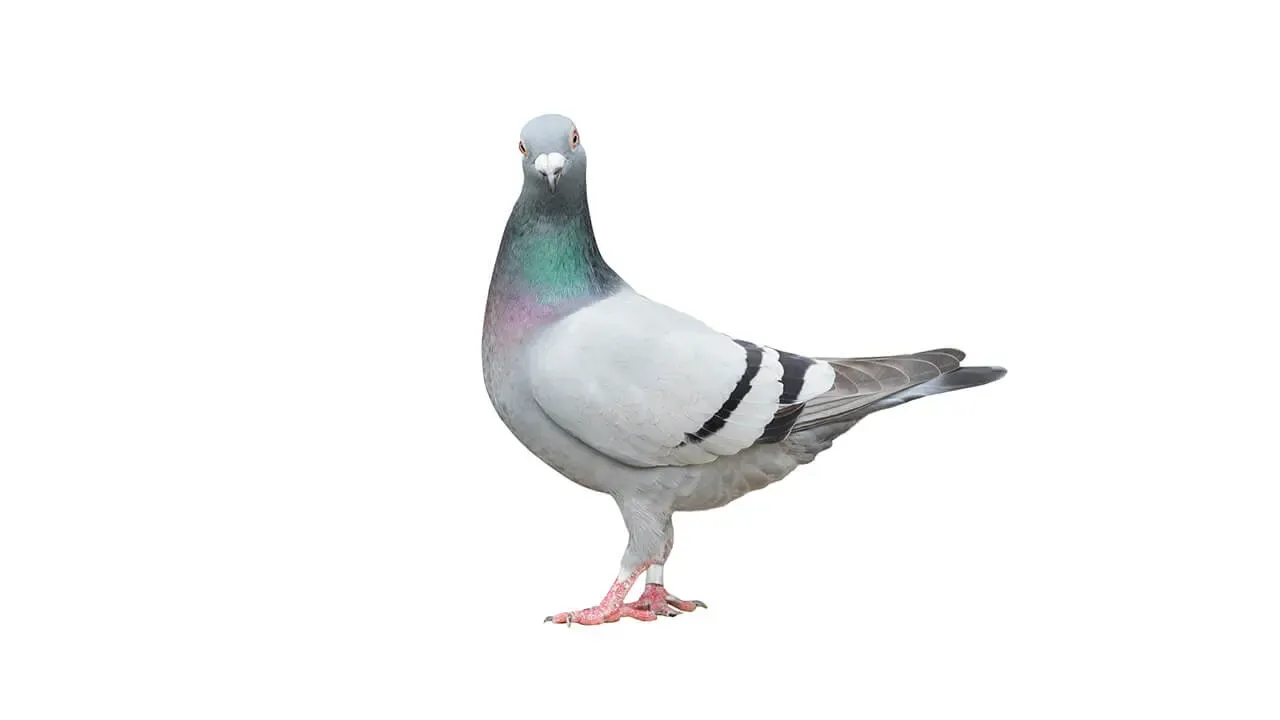Flying Rat: (478, 111, 1010, 634)
